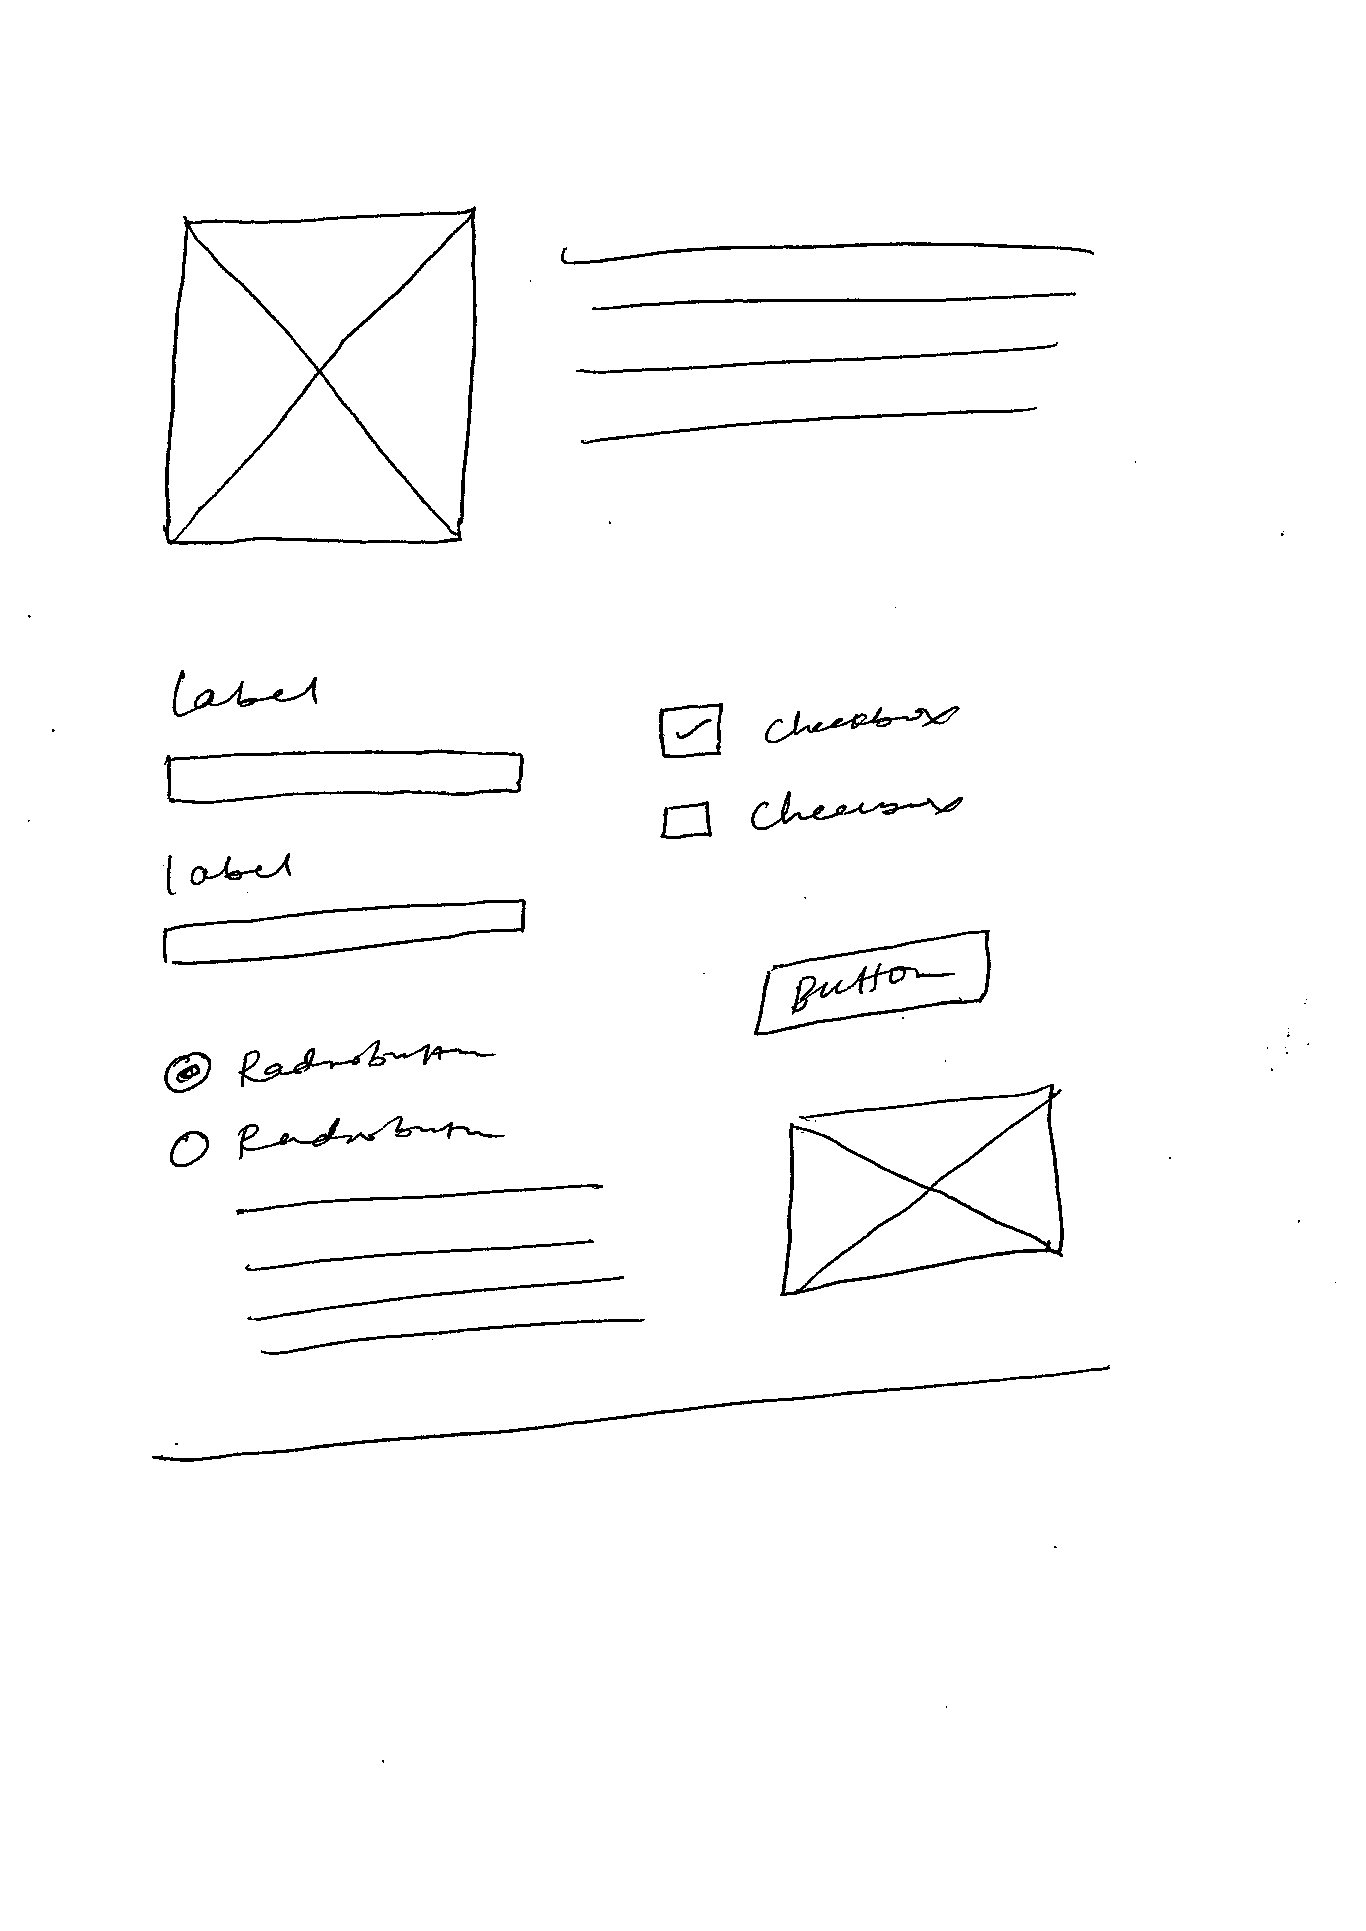Button: (752, 927, 990, 1039)
Check Box: (656, 696, 956, 761), (656, 787, 967, 844)
Image: (161, 203, 482, 552), (776, 1076, 1067, 1301)
Label: (171, 665, 322, 719), (164, 849, 294, 892)
Paragraph: (554, 240, 1098, 449), (234, 1177, 631, 1360)
Radio Button: (164, 1106, 516, 1172), (163, 1032, 497, 1097)
Textbox: (157, 896, 526, 971), (163, 747, 529, 807)
